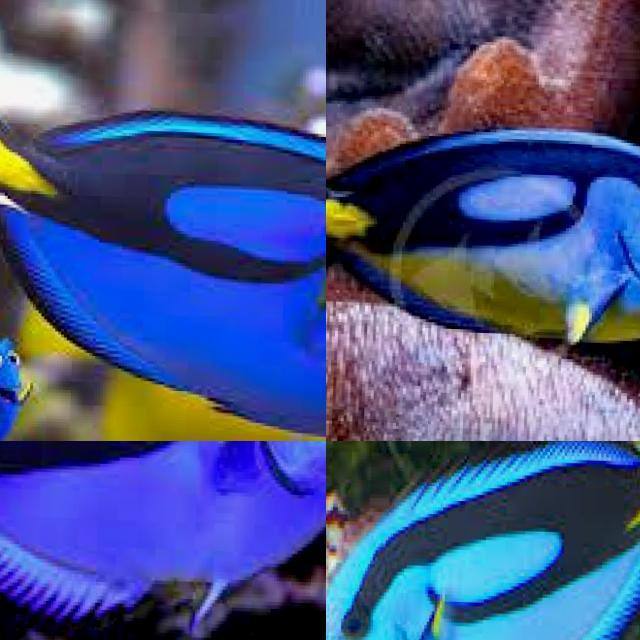BlueTang: (0, 116, 324, 441), (325, 132, 640, 344), (0, 441, 326, 640), (326, 441, 640, 640)
